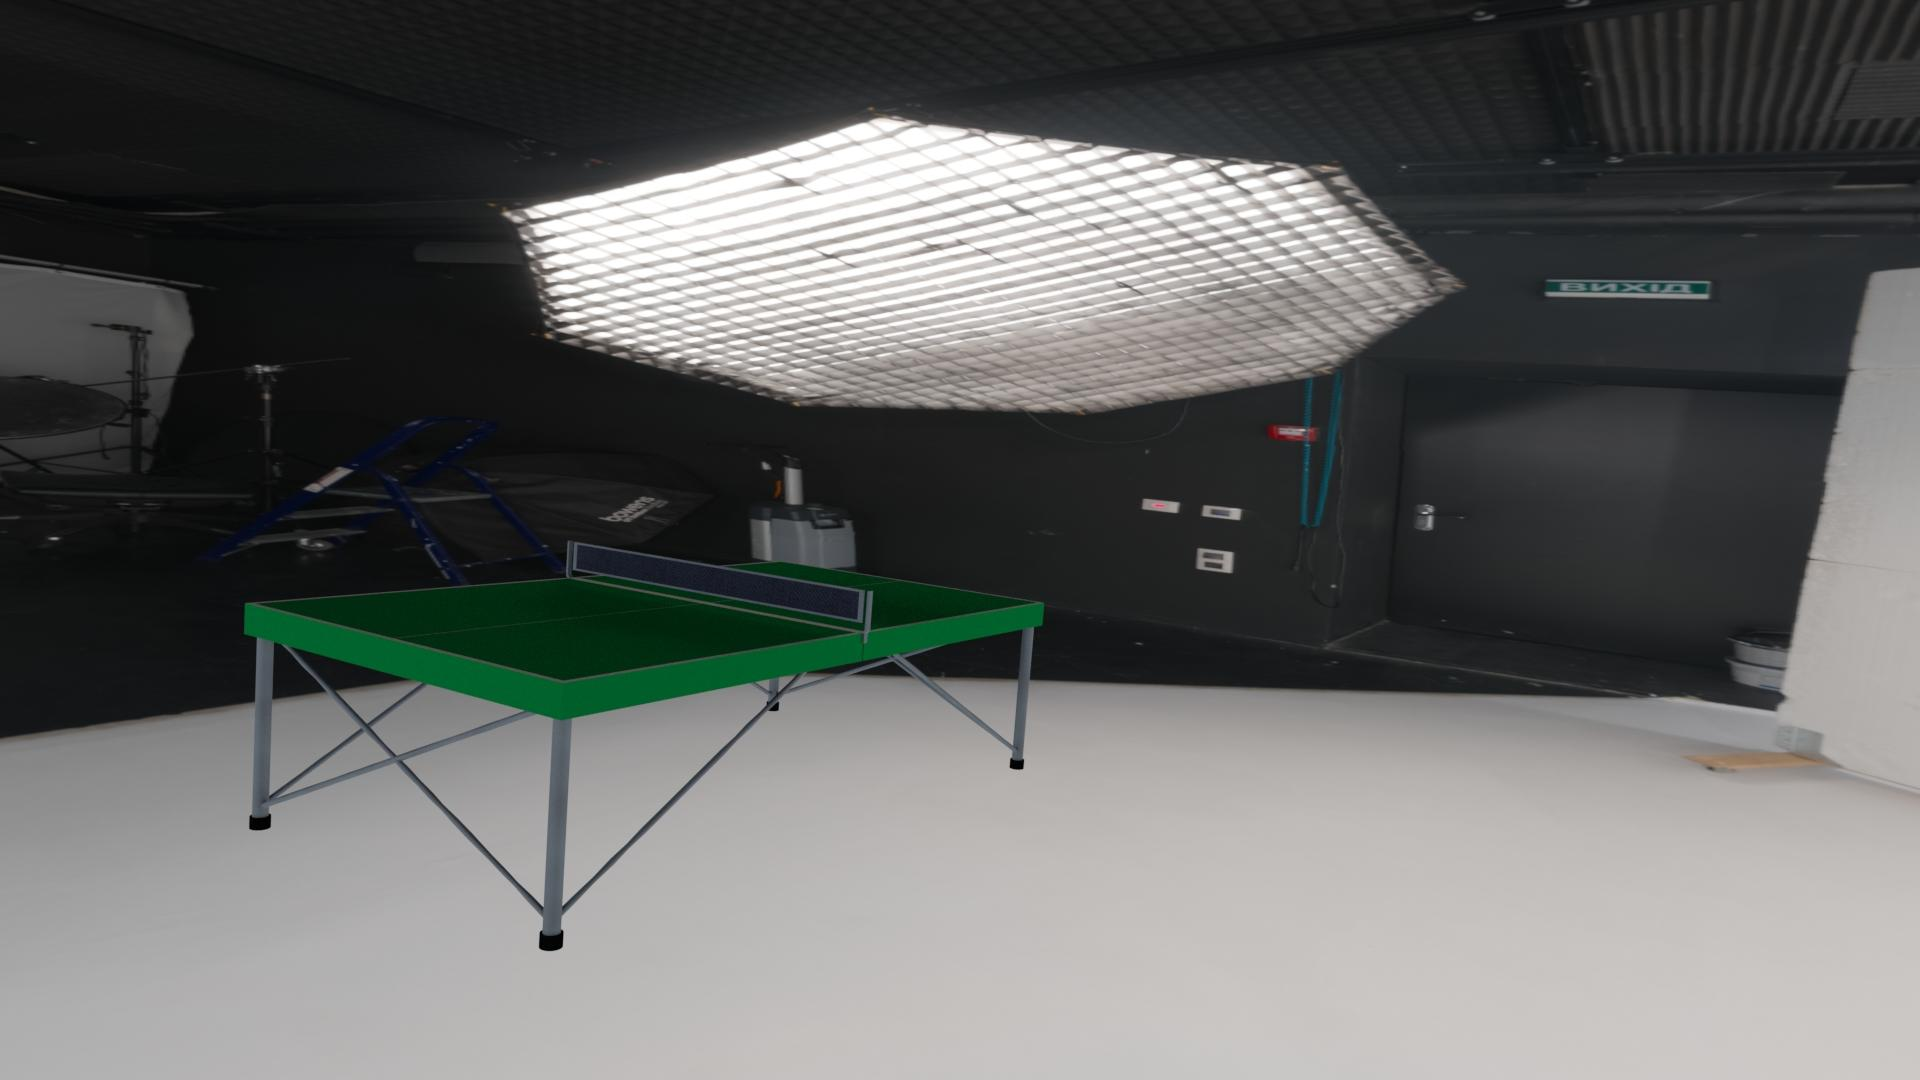table: (255, 562, 1038, 680)
